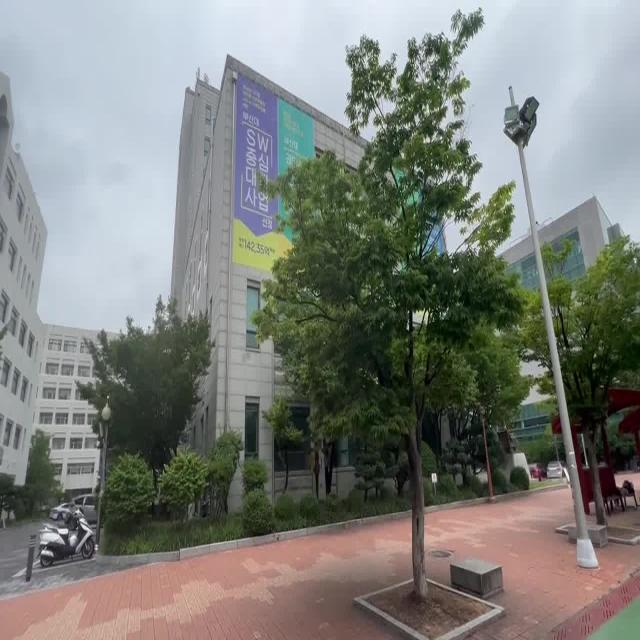building: (167, 70, 286, 320)
